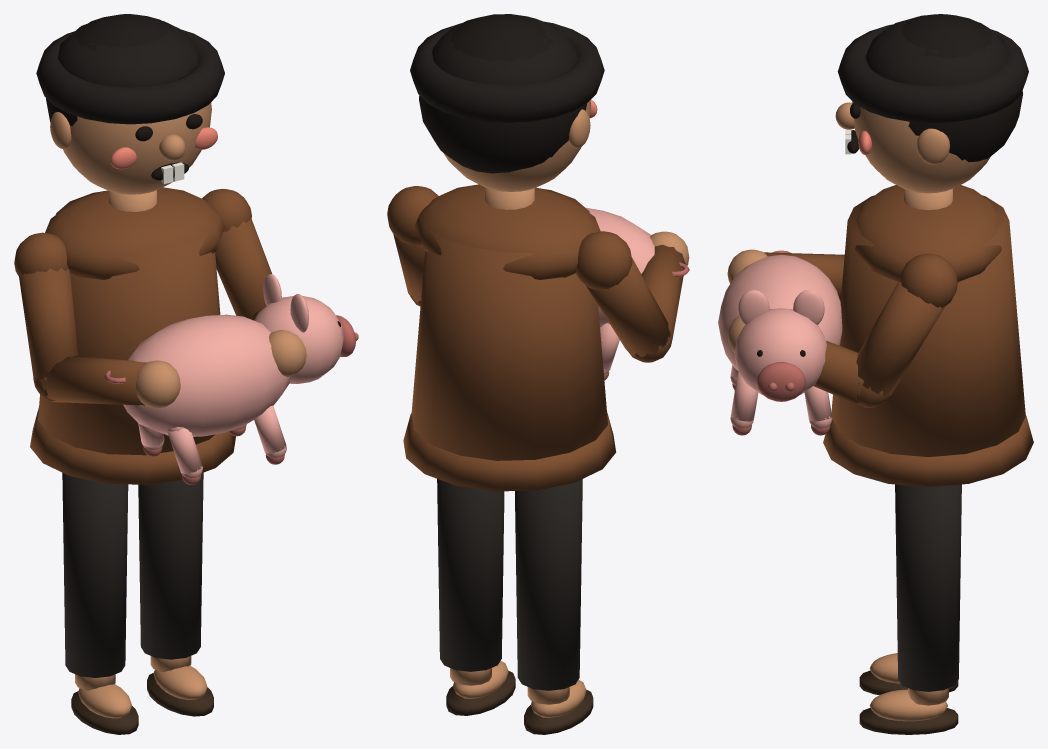
Rendered from villager_om_heo.glb.
3 views of the same model, side by side, from view 1: azimuth 30°, elevation 25°; view 2: azimuth 150°, elevation 25°; view 3: azimuth 270°, elevation 25° (orthographic). The views are drawn at different scales.
Parts seen in each view (by area): view 1: Body, Head, LegL, LegR, ArmL, ArmR; view 2: Body, Head, LegL, LegR, ArmL, ArmR; view 3: Body, Head, LegR, ArmR, ArmL, LegL.
Boxes of the visible parts, x1=… form: Body: x1=30, y1=187, x2=358, y2=484; Head: x1=36, y1=14, x2=224, y2=194; LegL: x1=62, y1=473, x2=138, y2=734; LegR: x1=138, y1=472, x2=213, y2=716; ArmL: x1=14, y1=232, x2=180, y2=408; ArmR: x1=202, y1=188, x2=306, y2=377; Body: x1=403, y1=184, x2=689, y2=491; Head: x1=410, y1=14, x2=604, y2=191; LegL: x1=515, y1=479, x2=593, y2=734; LegR: x1=437, y1=479, x2=515, y2=715; ArmL: x1=575, y1=231, x2=689, y2=362; ArmR: x1=387, y1=186, x2=438, y2=306; Body: x1=718, y1=185, x2=1033, y2=487; Head: x1=835, y1=14, x2=1028, y2=193; LegR: x1=859, y1=484, x2=961, y2=734; ArmR: x1=727, y1=253, x2=957, y2=407; ArmL: x1=727, y1=249, x2=844, y2=301; LegL: x1=859, y1=653, x2=958, y2=694.
Size of the model in its own units: 0.6536 by 1.54 by 0.6442.
